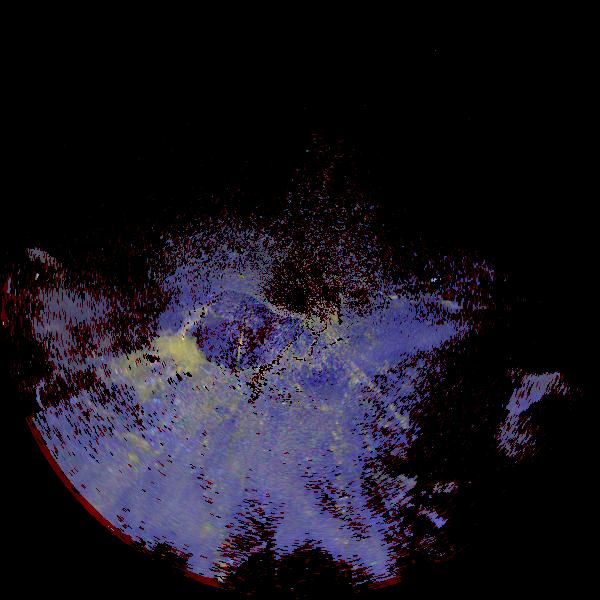roost: (113, 303, 227, 417)
